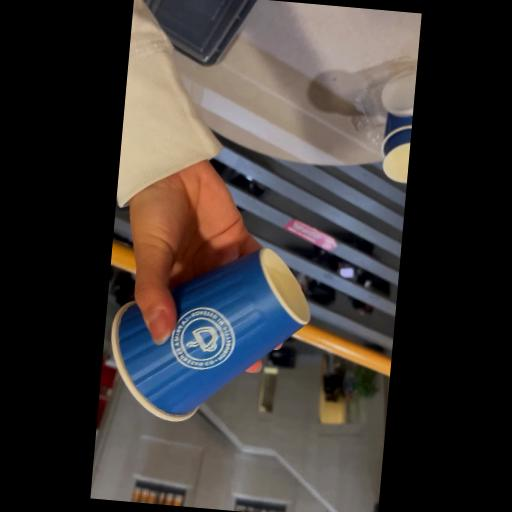lp_paper_cup: (104, 234, 320, 435)
